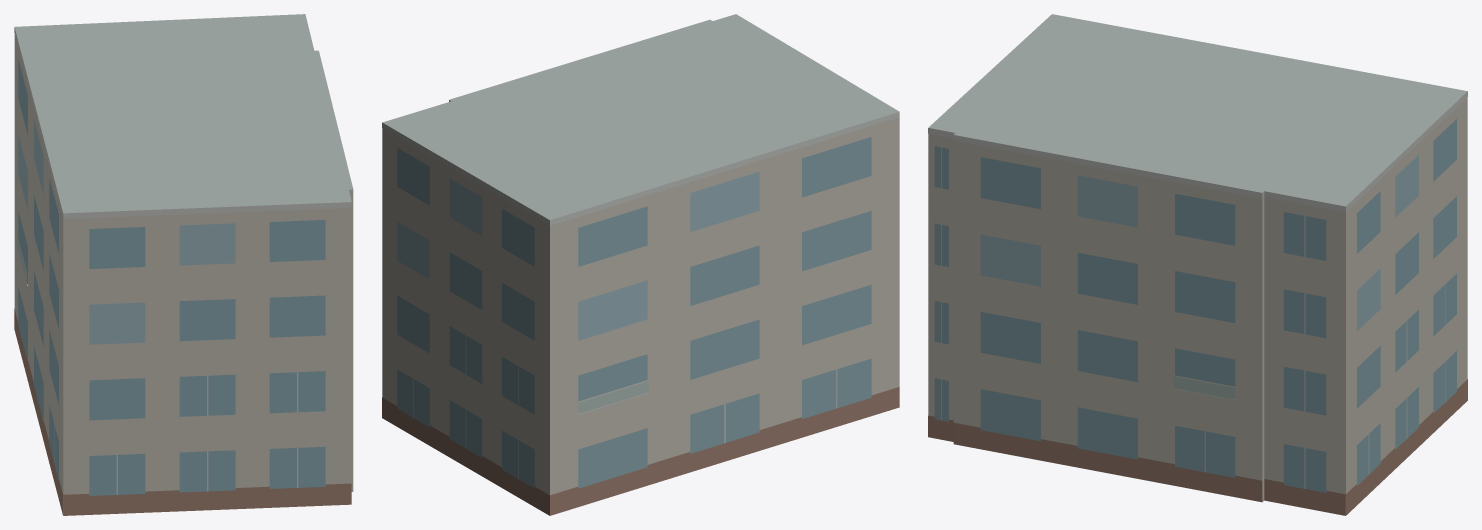
Rendered from survey-upis-32669268.glb.
The picture shows the model from 3 angles, left to right: view 1: azimuth 30°, elevation 25°; view 2: azimuth 150°, elevation 25°; view 3: azimuth 270°, elevation 25°; orthographic projection. The views are drawn at different scales.
Visible parts, largest first — view 1: survey-upis-32669268.tmp; view 2: survey-upis-32669268.tmp; view 3: survey-upis-32669268.tmp.
Part boxes in pixels (box(x1,y1,x2,y2)): survey-upis-32669268.tmp: box(14, 14, 353, 515); survey-upis-32669268.tmp: box(382, 14, 899, 515); survey-upis-32669268.tmp: box(928, 14, 1467, 515).
Size of the model in its own units: 17.36 by 13 by 20.56.
